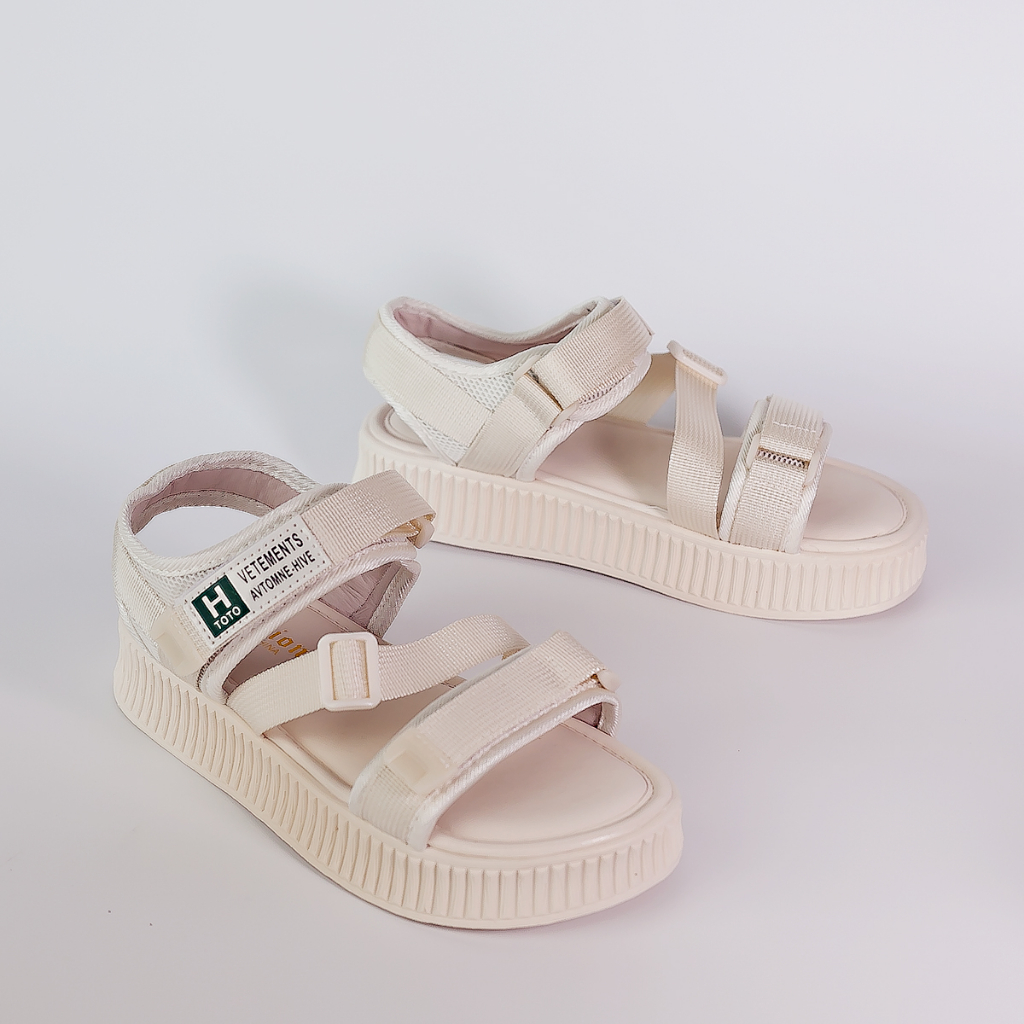sandals: (109, 442, 683, 929), (349, 287, 933, 614)
